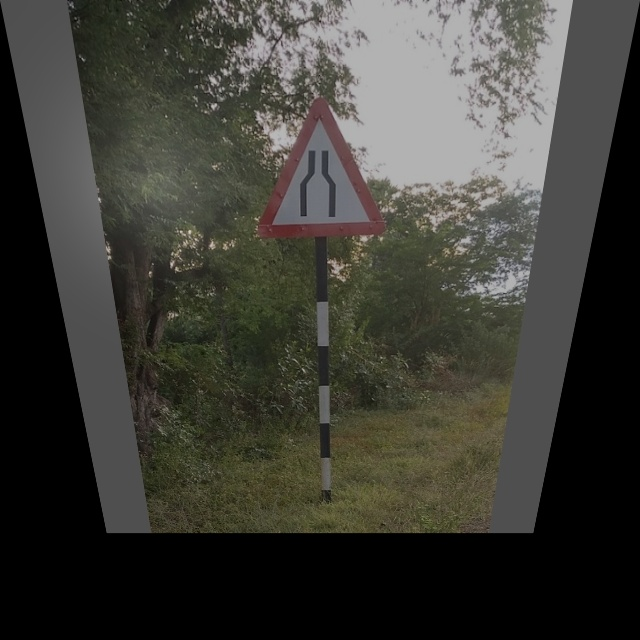Narrow_Road_Ahead: (245, 94, 395, 240)
